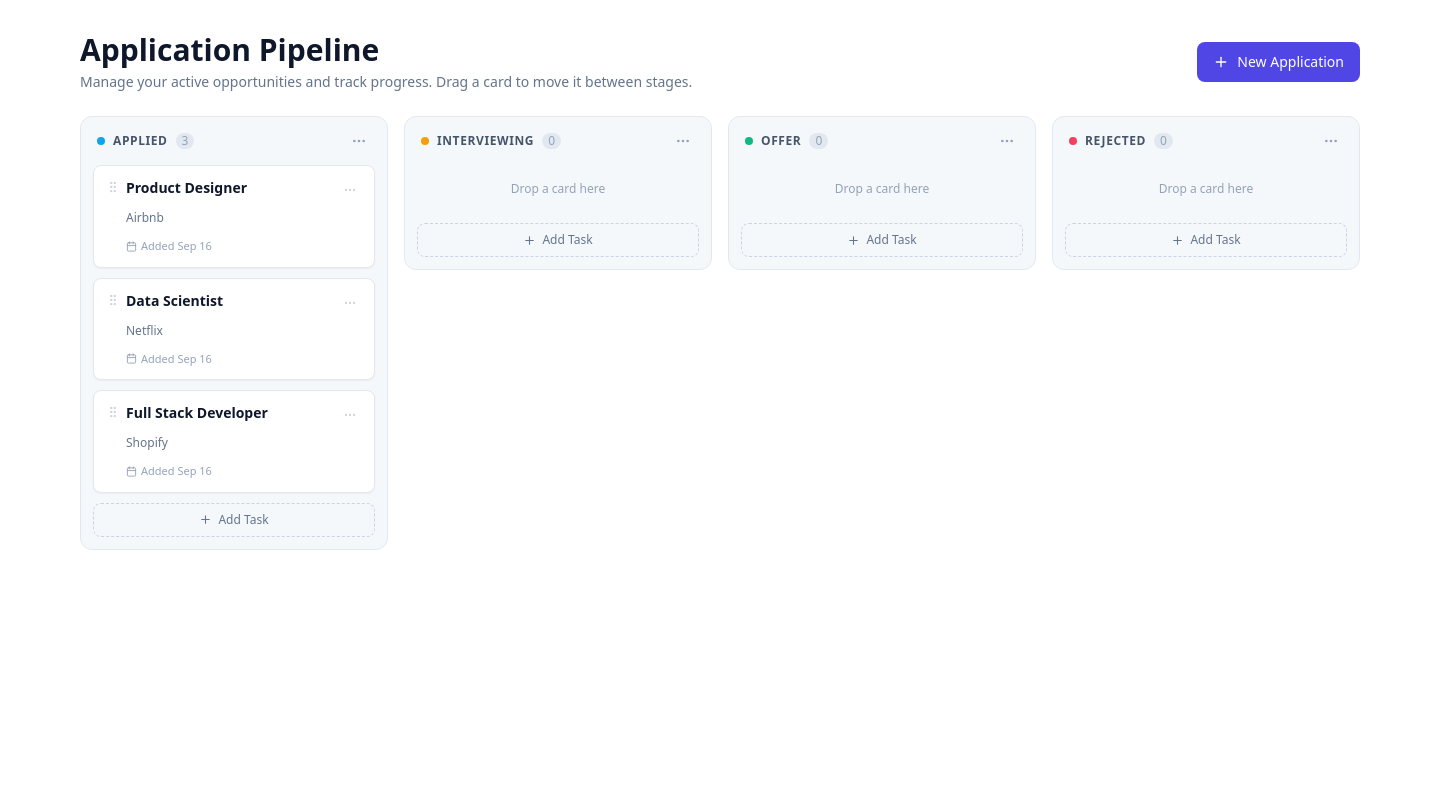
Test: Tracker — application pipeline › edits an existing application
Expected: the heading "Product Designer" is shown, x1=126 y1=178 x2=247 y2=197
Click the button without text next to "Product Designer". click: (350, 190)
box: x1=338 y1=178 x2=362 y2=202
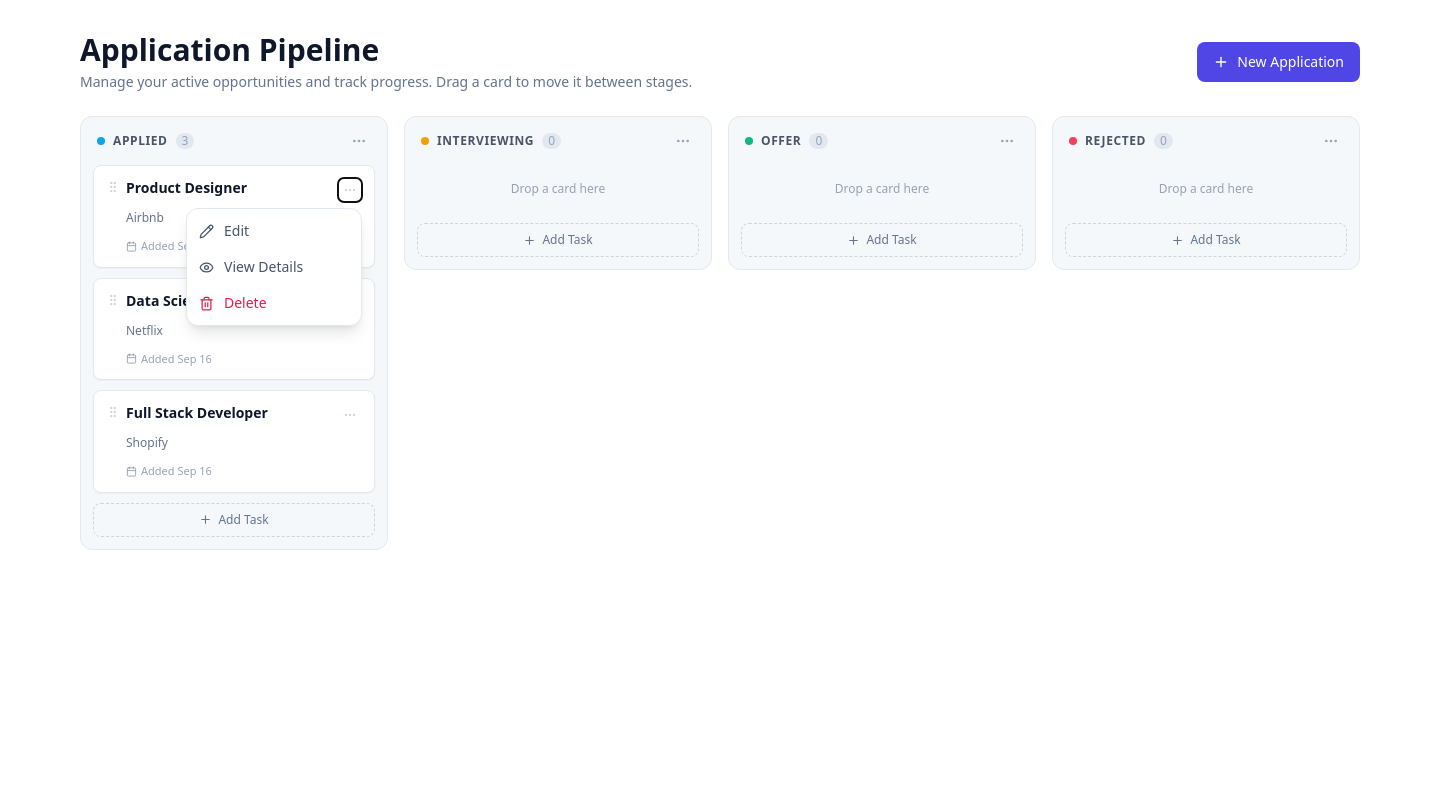
Click the menu item "Edit". click: (274, 231)
box: x1=187 y1=213 x2=361 y2=249
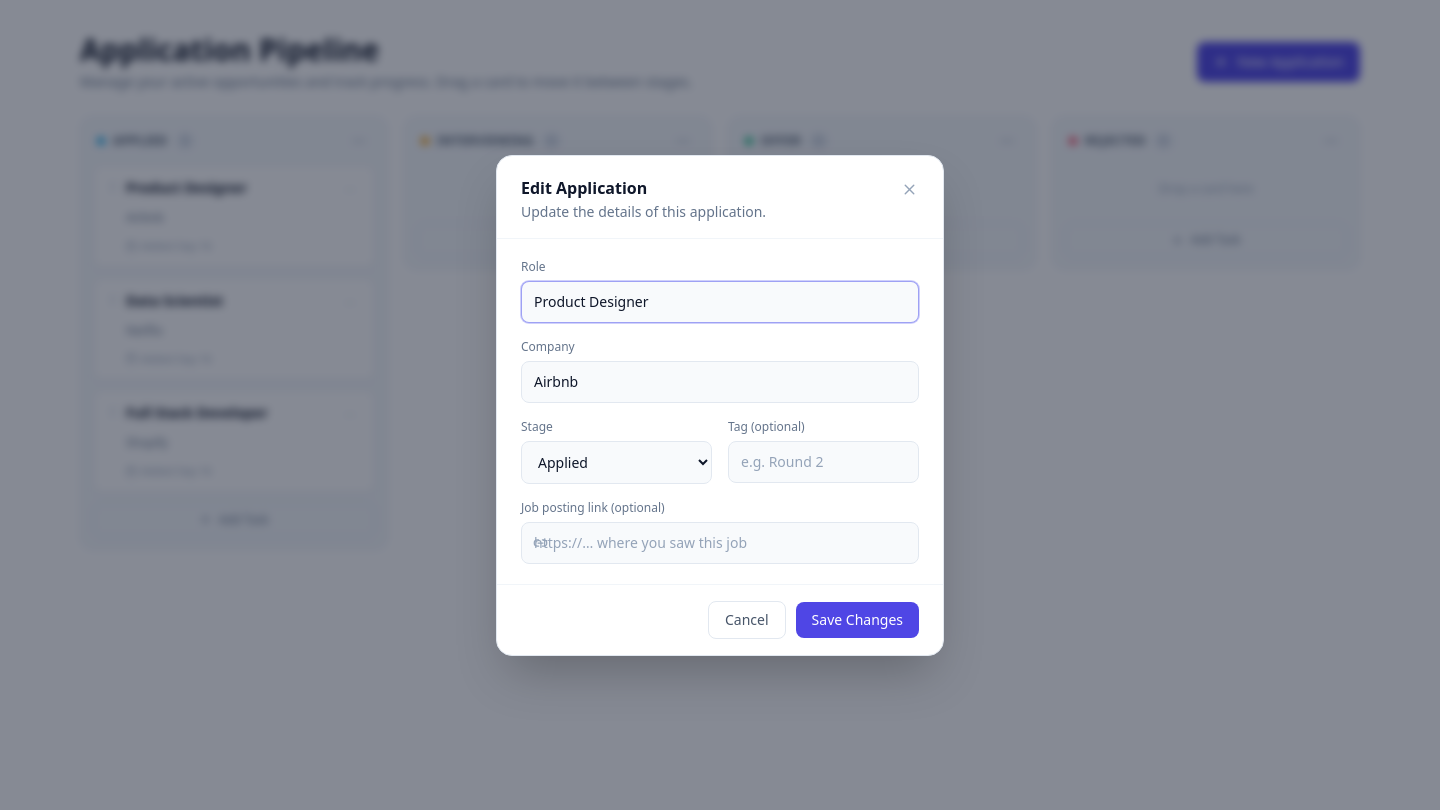
Replace the text in the field showing "Airbnb" below "Company" with "Figma". click: (720, 382)
box: x1=521 y1=360 x2=919 y2=402
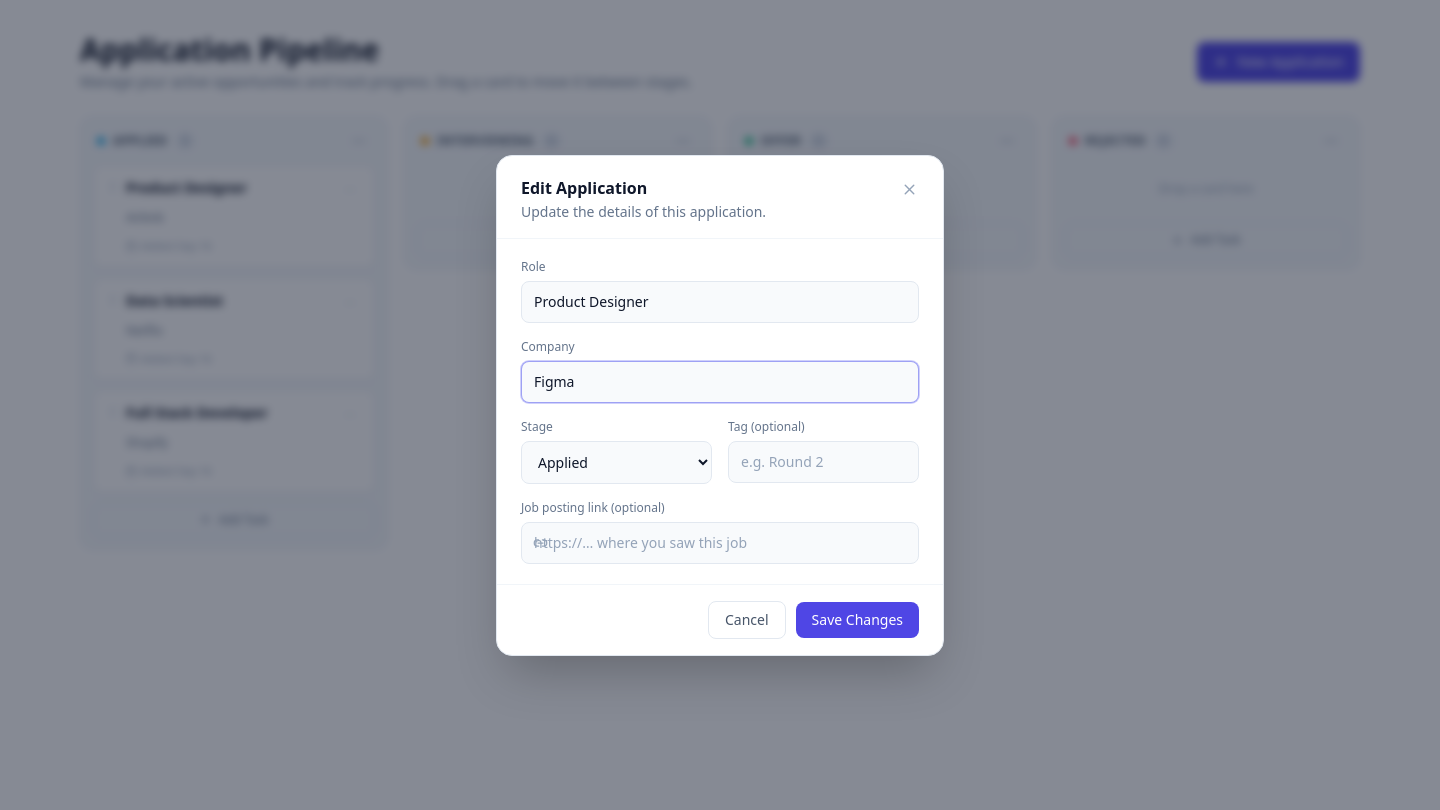
Click the button "Save Changes". click: (857, 620)
box: x1=796 y1=602 x2=919 y2=638
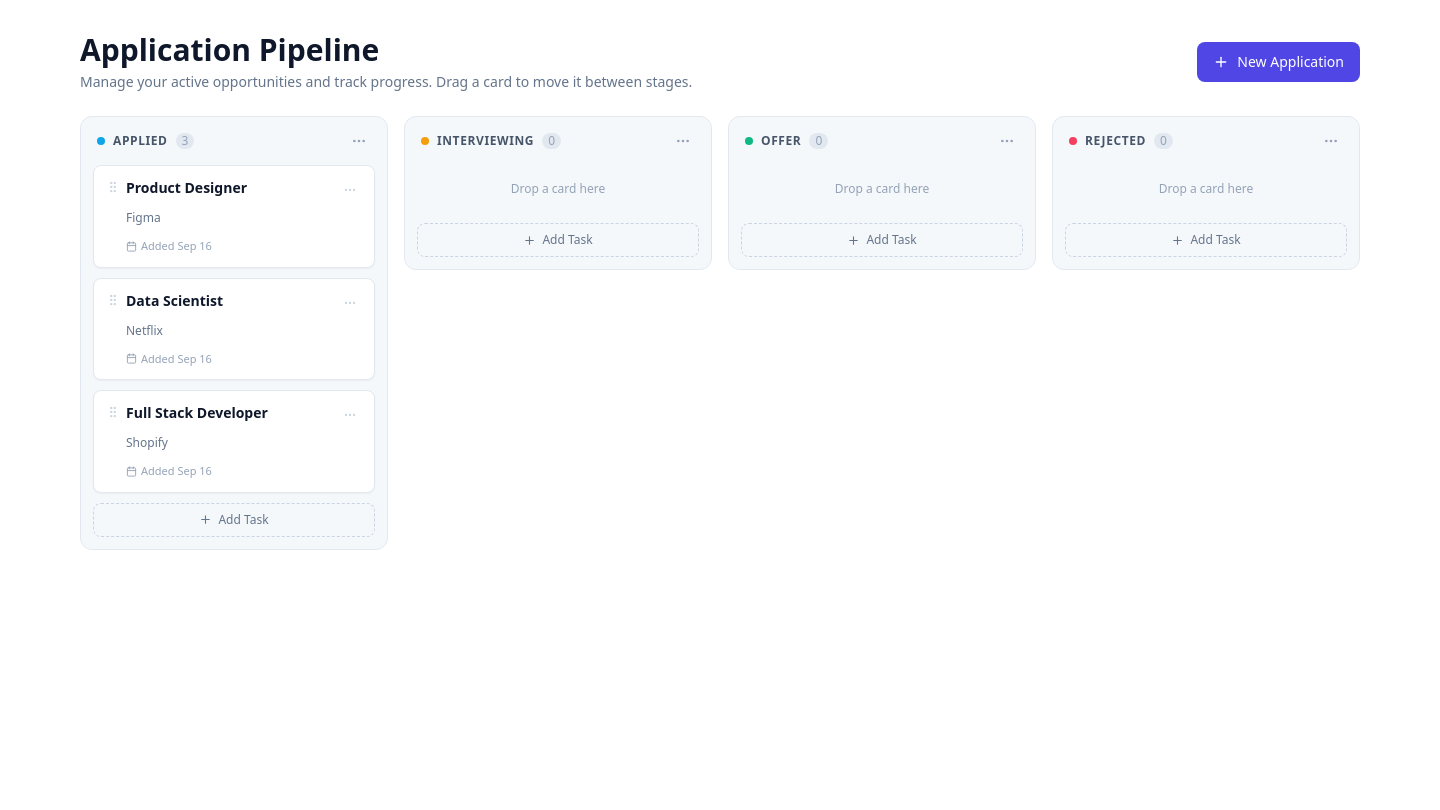
Expected: the text "Figma" is shown, x1=126 y1=209 x2=161 y2=226
Expected: the text "Airbnb" is gone
